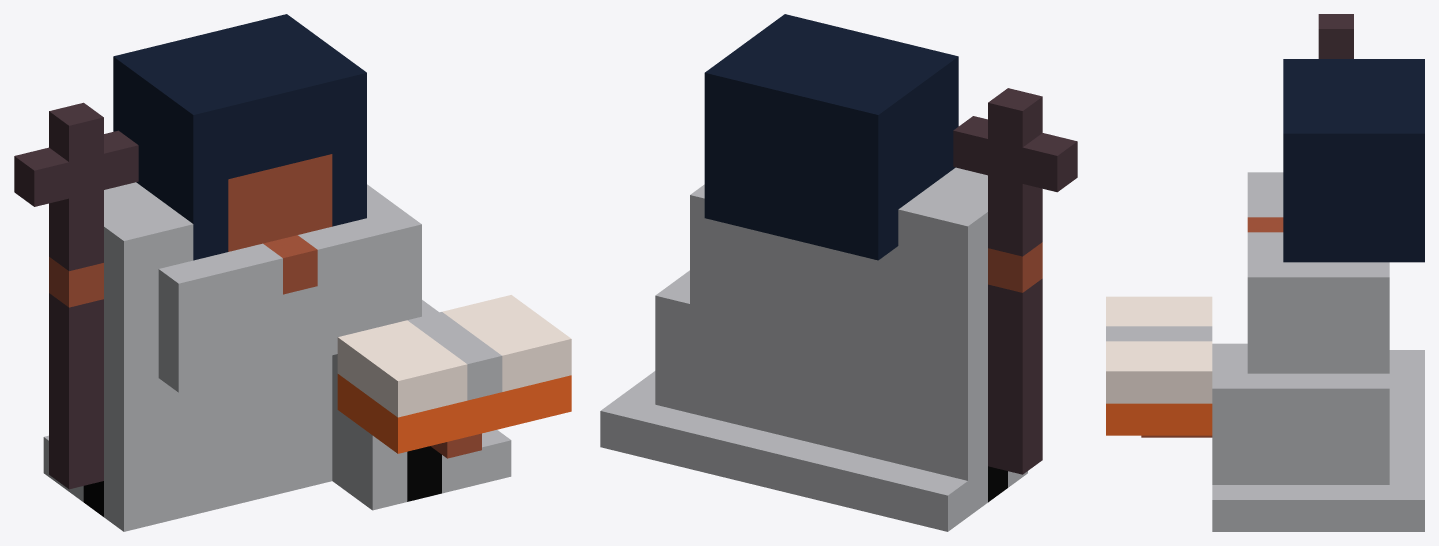
The model's file is priestess_walk_1.obj.
The picture shows the model from 3 angles, left to right: view 1: azimuth 30°, elevation 25°; view 2: azimuth 150°, elevation 25°; view 3: azimuth 270°, elevation 25°; orthographic projection. The views are drawn at different scales.
Bounding box in the file's own units: 1.2 × 1.1 × 0.9.
1 material, 1 textured.
